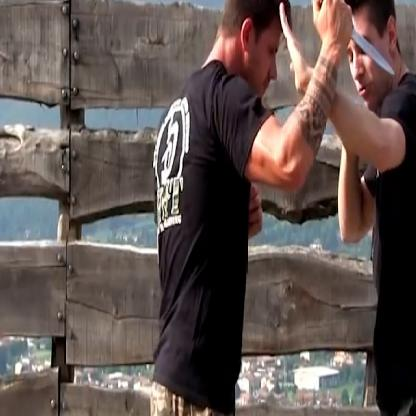knife: (310, 0, 400, 80)
